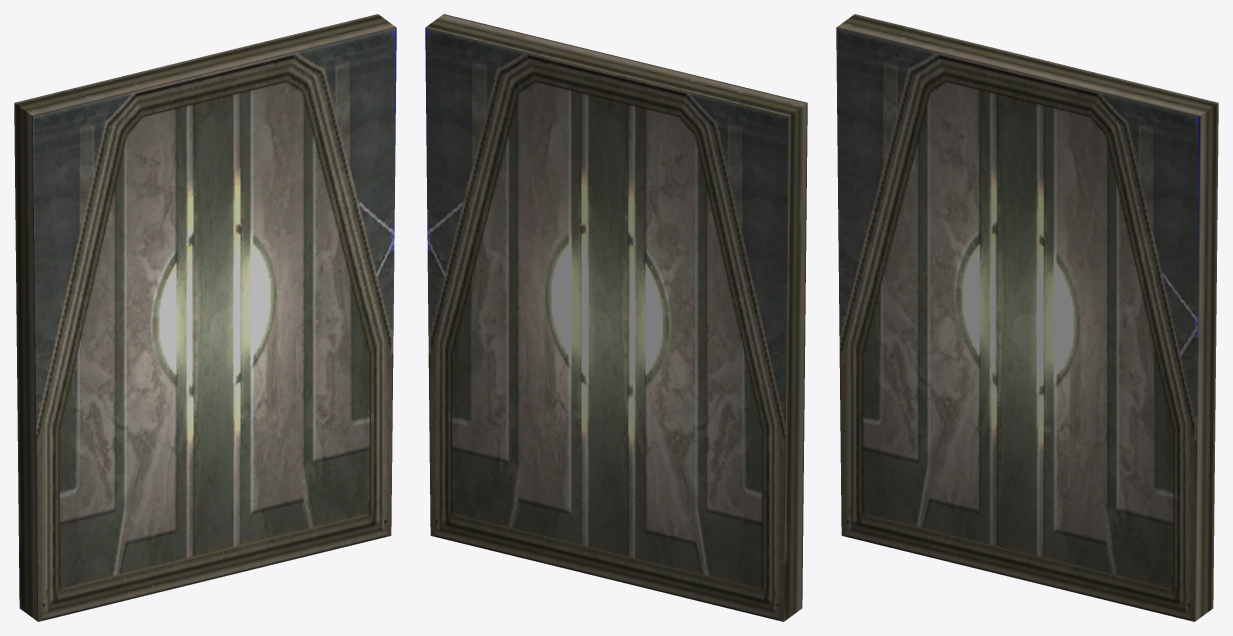
Rendered from thm_yavn_ljt_door_l1.fbx.
3 renders of one model, left to right at view 1: azimuth 30°, elevation 25°; view 2: azimuth 150°, elevation 25°; view 3: azimuth 330°, elevation 25°, orthographic.
Parts seen in each view (by area): view 1: mesh_node; view 2: mesh_node; view 3: mesh_node.
Part boxes in pixels (left/top/right/bottom): mesh_node: left=14, top=14, right=396, bottom=621; mesh_node: left=425, top=14, right=807, bottom=621; mesh_node: left=836, top=14, right=1218, bottom=621.
Size of the model in its own units: 2.31 by 3.08 by 0.2048.
